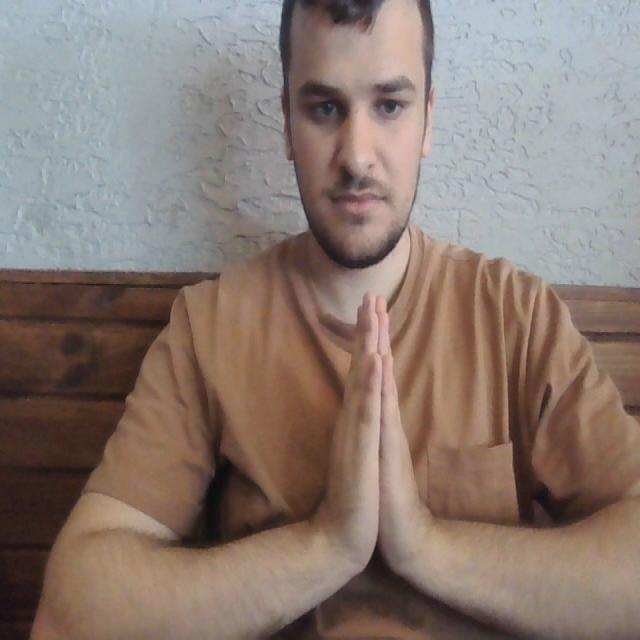Ozur-Dilemek: (319, 283, 426, 589)
